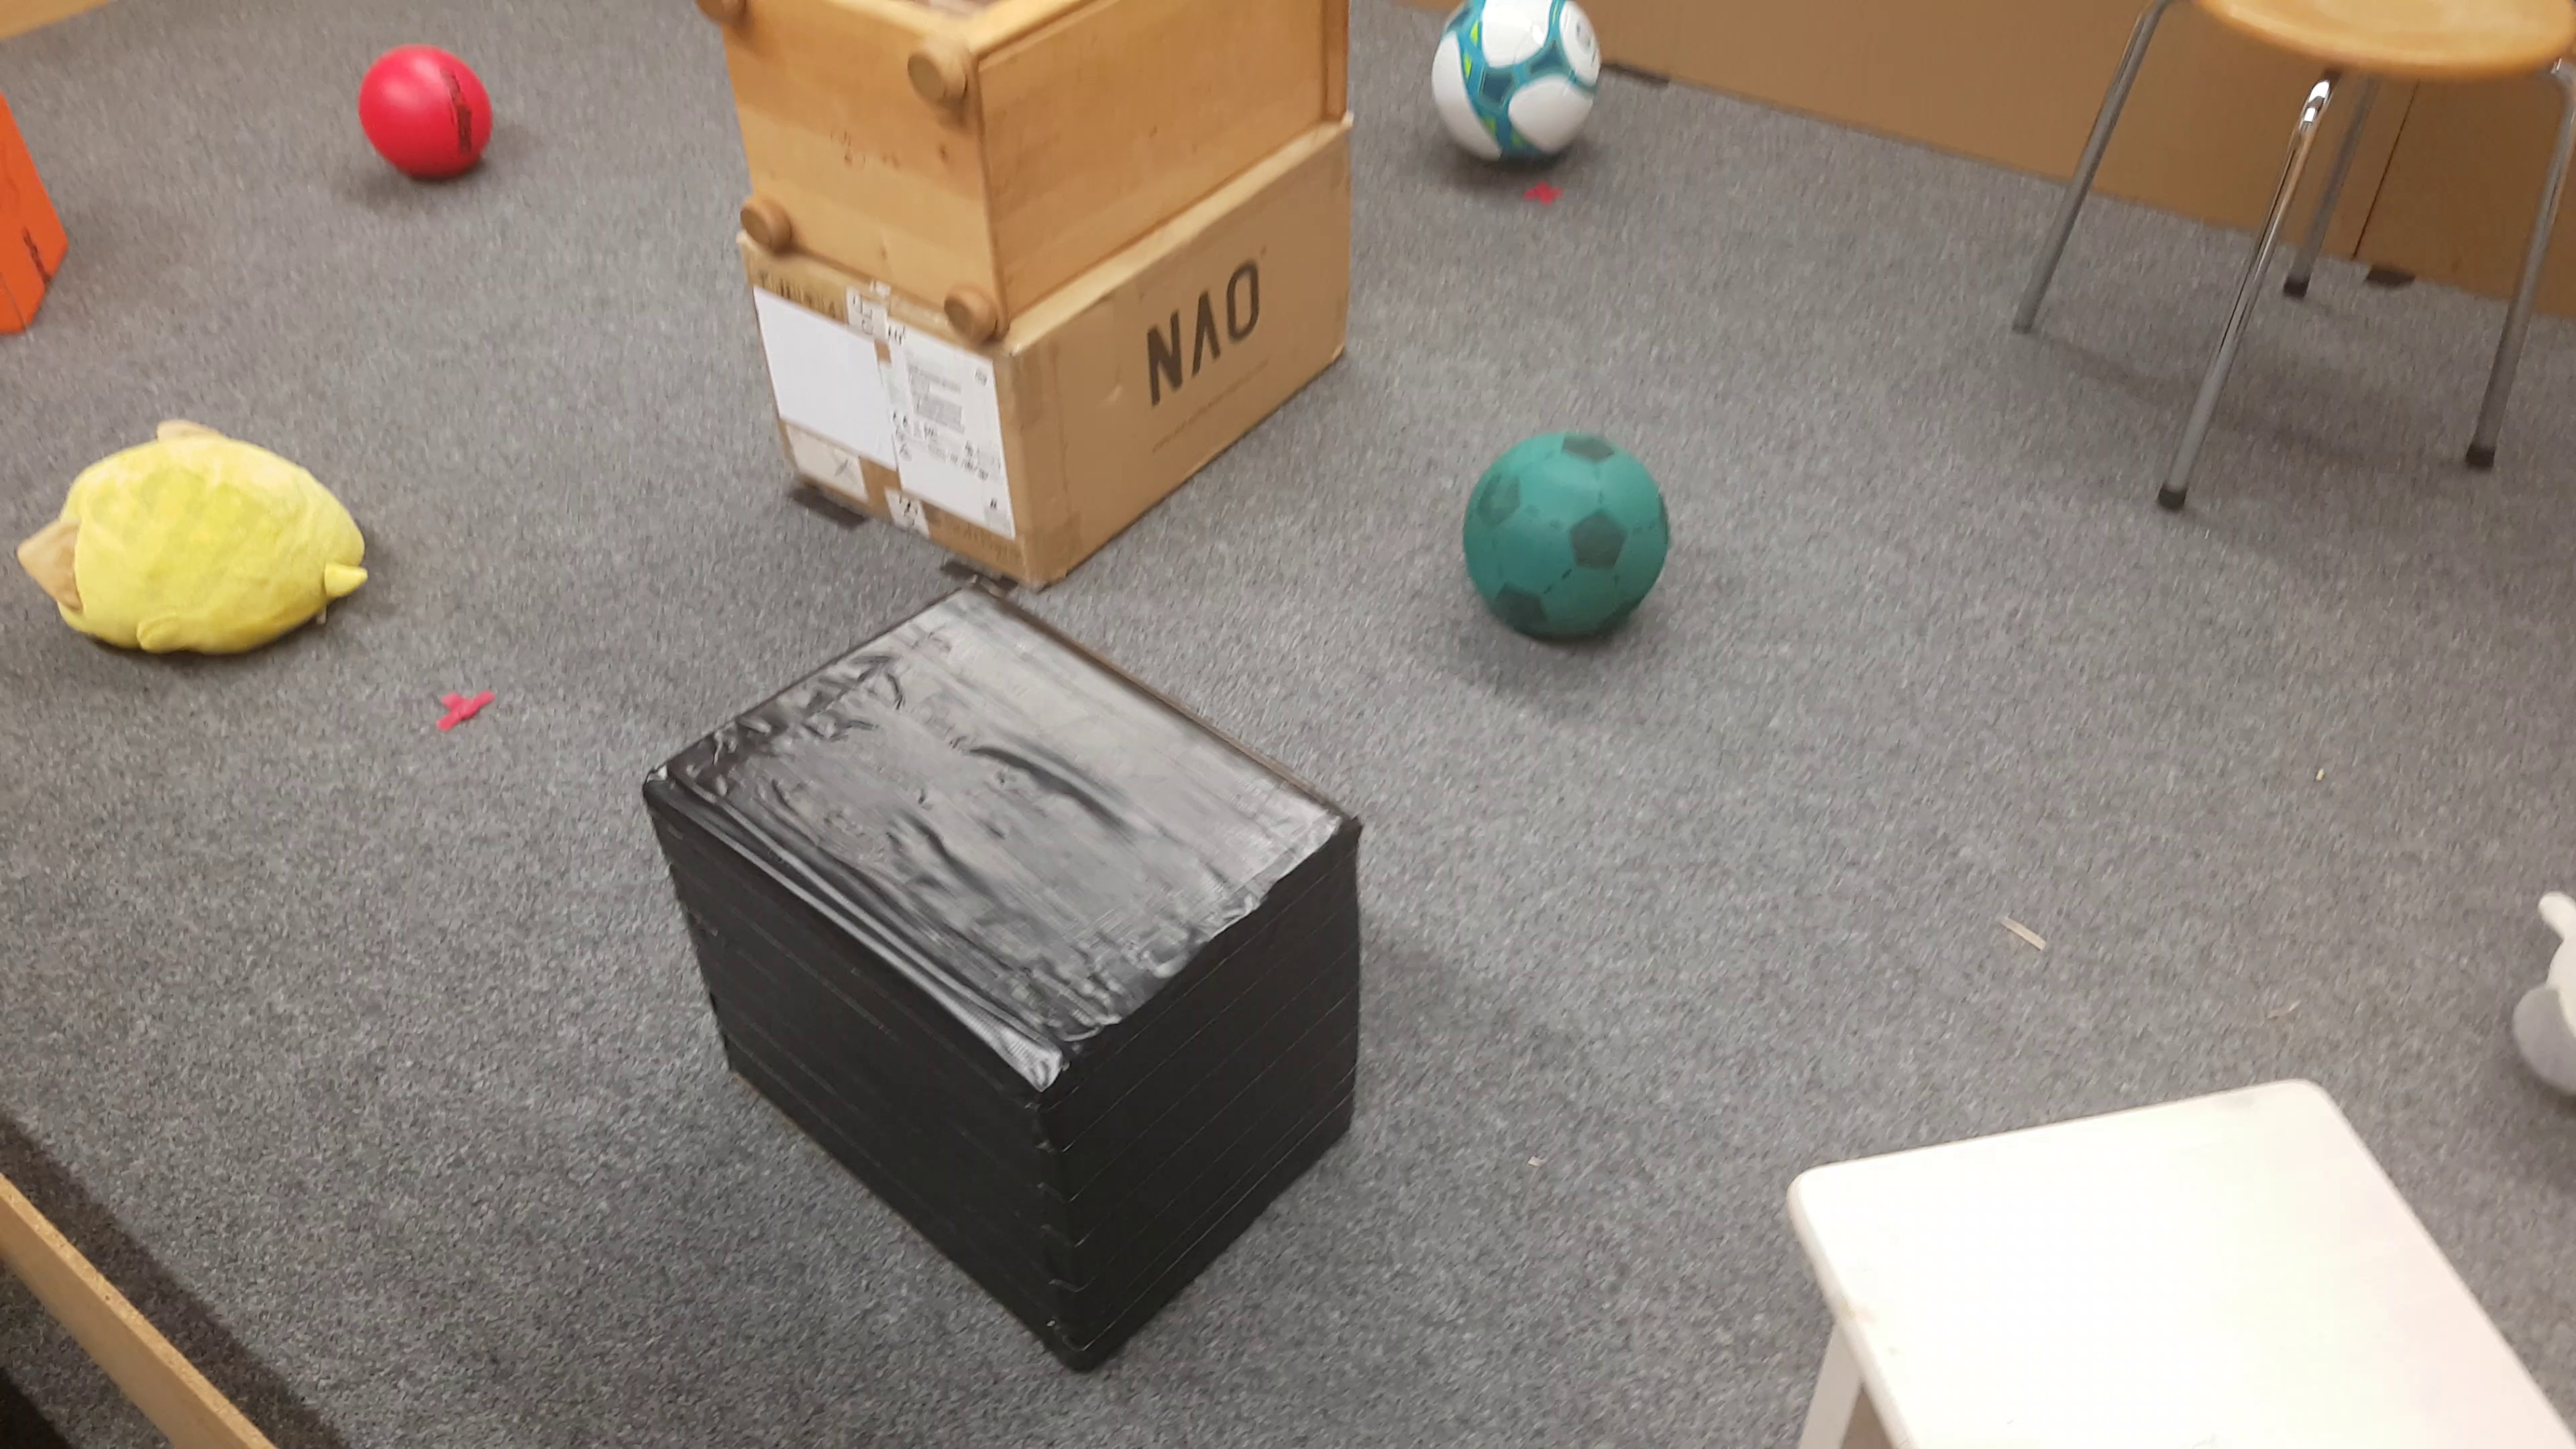grasp: (19, 410, 372, 662)
kick: (1461, 426, 1667, 653), (1430, 0, 1605, 172), (357, 39, 497, 186)
push: (646, 591, 1375, 1368), (0, 74, 74, 347)
